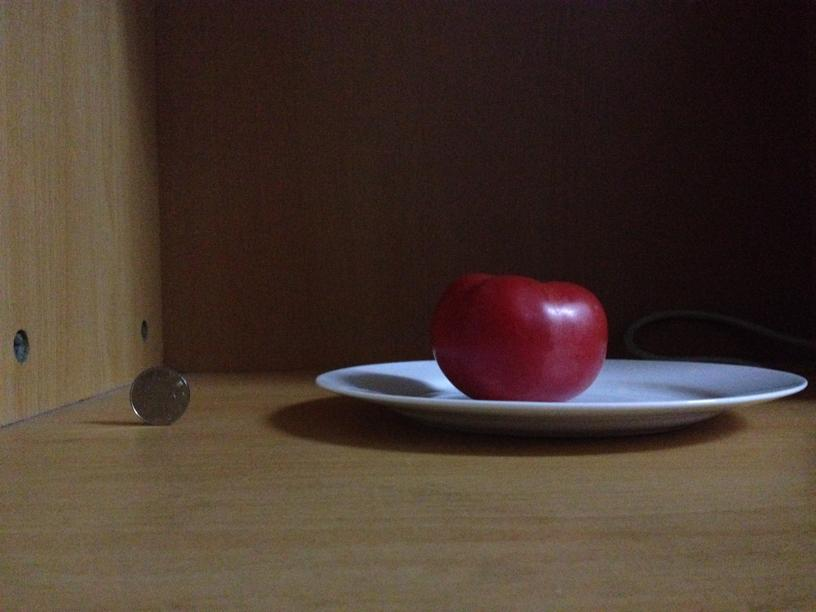coin: (126, 370, 191, 428)
tomato: (432, 271, 608, 402)
